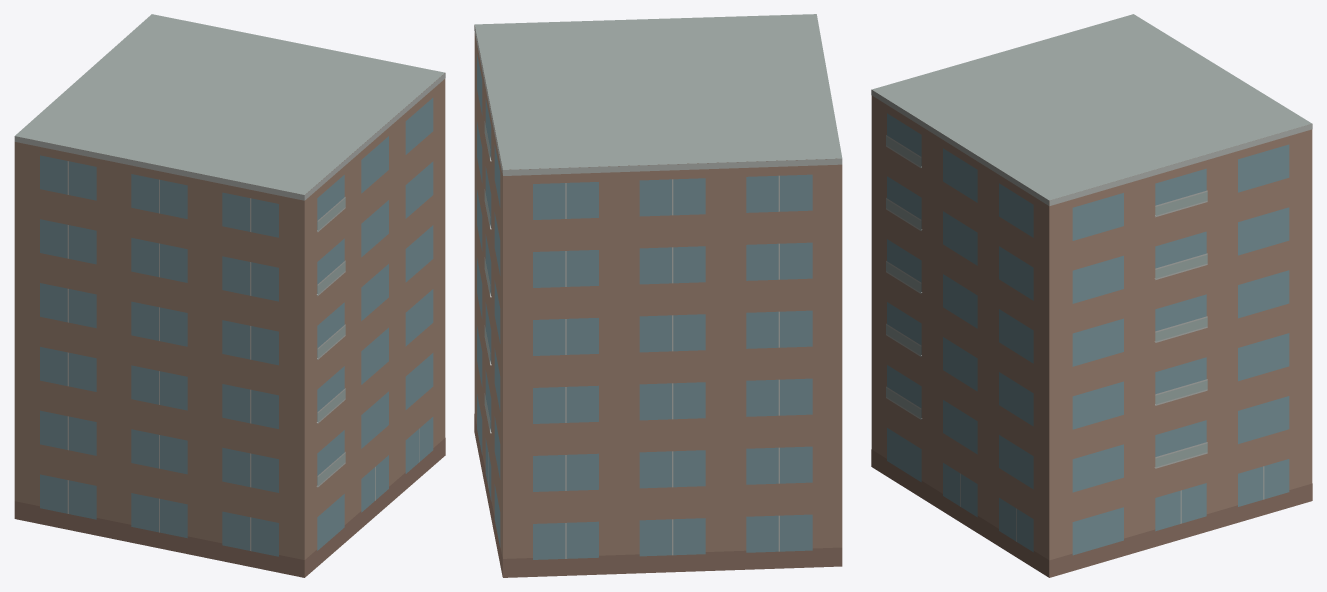
Rendered from survey-upis-32884142.glb.
3 renders of one model, left to right at view 1: azimuth 30°, elevation 25°; view 2: azimuth 150°, elevation 25°; view 3: azimuth 270°, elevation 25°, orthographic. The views are drawn at different scales.
Parts seen in each view (by area): view 1: survey-upis-32884142.tmp; view 2: survey-upis-32884142.tmp; view 3: survey-upis-32884142.tmp.
Part boxes in pixels (bbox=[...]): survey-upis-32884142.tmp: bbox=[14, 14, 445, 577]; survey-upis-32884142.tmp: bbox=[474, 14, 842, 577]; survey-upis-32884142.tmp: bbox=[871, 14, 1312, 577].
Bounding box in the file's own units: 17.3 × 16.3 × 17.27.
